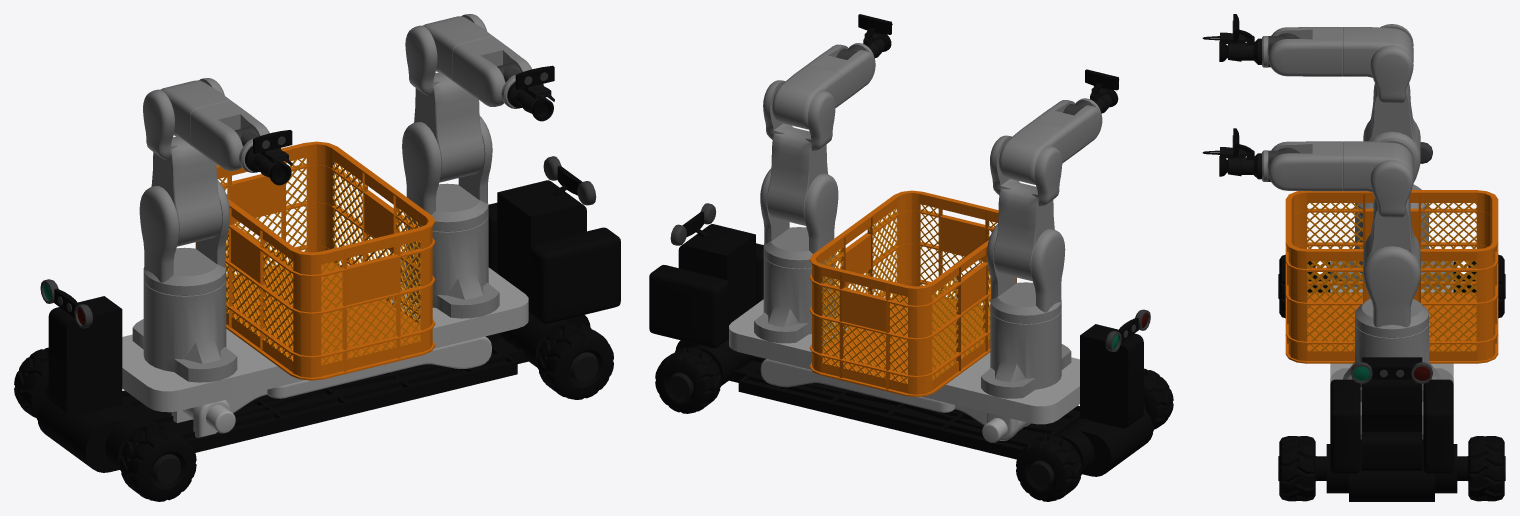
The model's file is Harvestrobot_0001.fbx.
The picture shows the model from 3 angles, left to right: view 1: azimuth 30°, elevation 25°; view 2: azimuth 150°, elevation 25°; view 3: azimuth 270°, elevation 25°; orthographic projection. The views are drawn at different scales.
Parts seen in each view (by area): view 1: Base1, Crate, Base4, Base_1, Axis2_2, Axis2_1, Axis1_1, Axis1_2, Base_2, WheelFL, WheelRL, Base2 (+7 smaller); view 2: Base1, Crate, Base4, Axis2_2, Axis2_1, Base_1, Axis1_1, Axis1_2, Base_2, WheelFR, WheelRR, Base3 (+7 smaller); view 3: Crate, Base1, Axis1_2, Axis2_2, Axis2_1, Axis4_2, Axis4_1, WheelRL, WheelRR, Base_2, Axis3_2, Axis3_1 (+9 smaller).
Boxes of the visible parts, x1,y1,x2,y2 form: Base1: (37,156,620,472); Crate: (195,141,435,380); Base4: (122,267,528,412); Base_1: (132,279,237,382); Axis2_2: (405,14,487,182); Axis2_1: (143,78,224,246); Axis1_1: (139,180,229,295); Axis1_2: (402,116,492,231); Base_2: (400,215,499,318); WheelFL: (119,425,196,501); WheelRL: (537,323,613,399); Base2: (182,336,491,419); Base1: (649,203,1153,476); Crate: (809,190,1016,397); Base4: (729,299,1079,442); Axis2_2: (763,80,835,225); Axis2_1: (990,135,1062,281); Base_1: (981,309,1071,398); Axis1_1: (987,224,1065,323); Axis1_2: (760,168,838,268); Base_2: (754,254,839,343); WheelFR: (1016,435,1082,501); WheelRR: (655,347,721,413); Base3: (760,359,1028,431); Crate: (1285,190,1498,363); Base1: (1316,142,1467,501); Axis1_2: (1355,236,1428,337); Axis2_2: (1363,138,1420,270); Axis2_1: (1363,24,1420,155); Axis4_2: (1268,141,1342,191); Axis4_1: (1268,27,1342,76); WheelRL: (1278,436,1316,501); WheelRR: (1467,436,1505,501); Base_2: (1330,323,1453,401); Axis3_2: (1343,141,1413,192); Axis3_1: (1343,27,1413,77).
Size of the model in its own units: 134 by 88.37 by 73.84.
